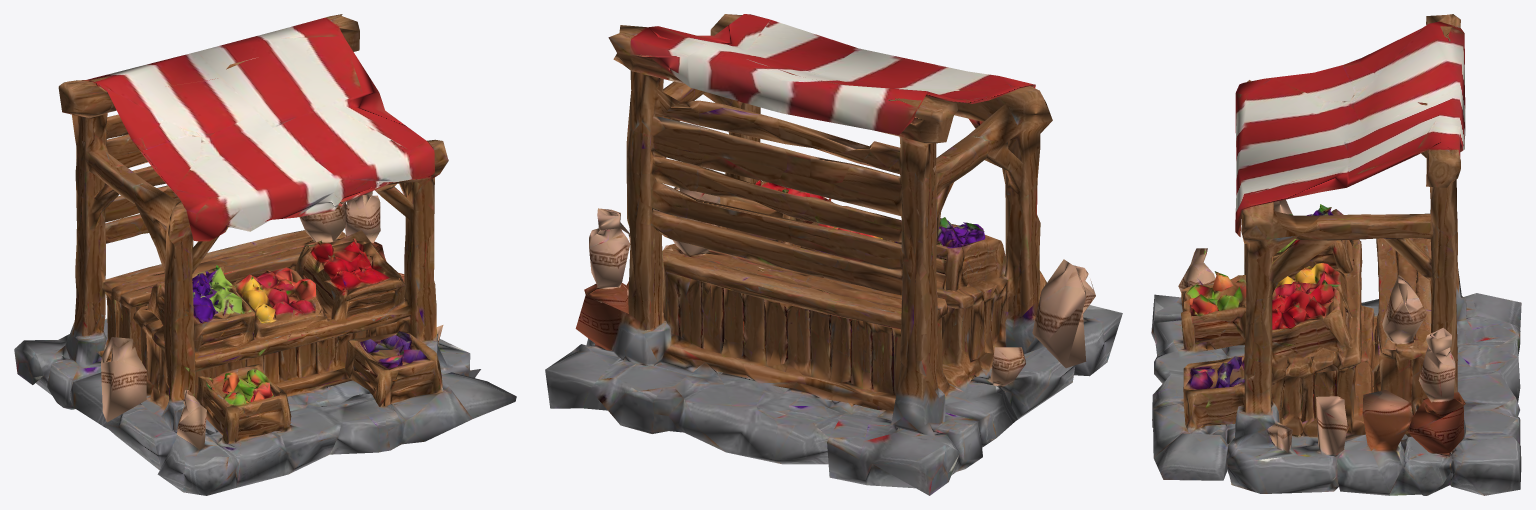
The model's file is stall.glb.
The picture shows the model from 3 angles, left to right: view 1: azimuth 30°, elevation 25°; view 2: azimuth 150°, elevation 25°; view 3: azimuth 270°, elevation 25°; orthographic projection. The views are drawn at different scales.
Size of the model in its own units: 1.86 by 1.55 by 1.59.
1 material, 1 textured.
